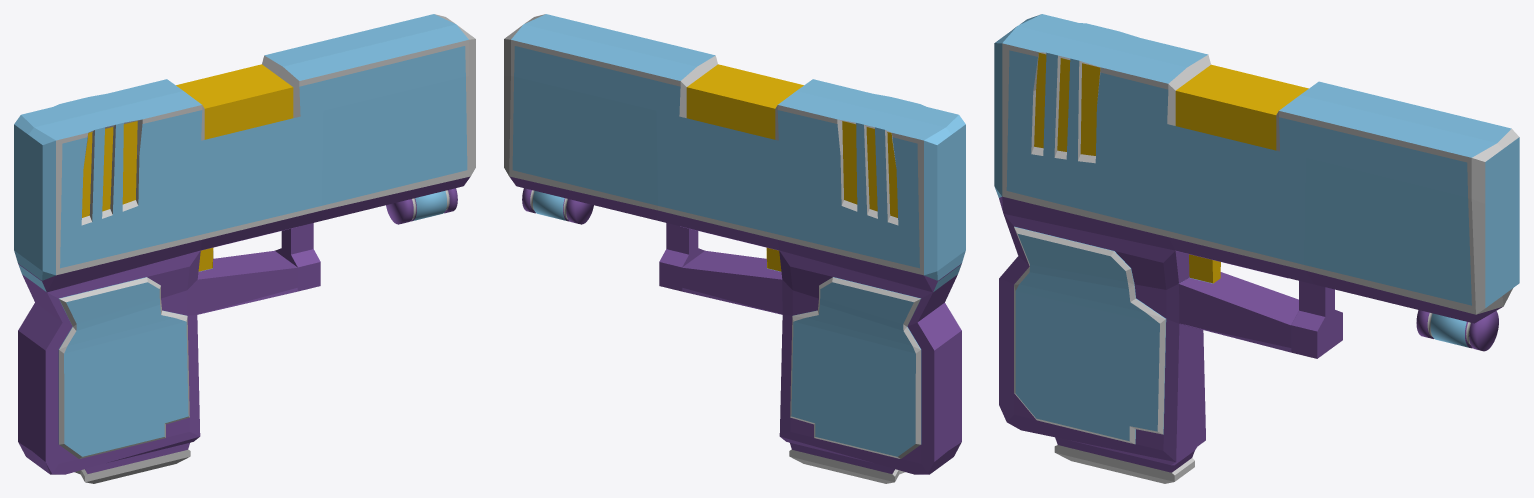
File: basicgun1.fbx
3 renders of one model, left to right at view 1: azimuth 30°, elevation 25°; view 2: azimuth 150°, elevation 25°; view 3: azimuth 330°, elevation 25°, orthographic. The views are drawn at different scales.
Parts seen in each view (by area): view 1: Cube; view 2: Cube; view 3: Cube.
Part boxes in pixels (x1,y1,x2,y2): Cube: (14, 14, 475, 483); Cube: (504, 14, 965, 483); Cube: (994, 14, 1519, 483).
Bounding box in the file's own units: 2557 × 2057 × 360.
